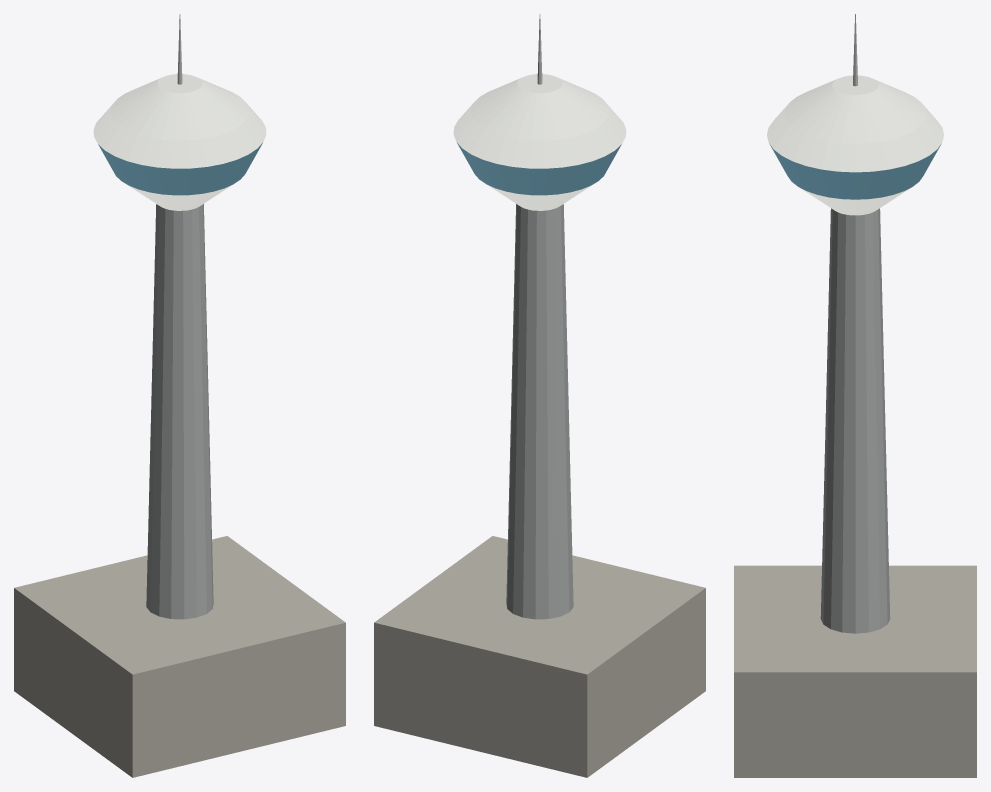
File: source.glb
The picture shows the model from 3 angles, left to right: view 1: azimuth 30°, elevation 25°; view 2: azimuth 150°, elevation 25°; view 3: azimuth 270°, elevation 25°; orthographic projection. The views are drawn at different scales.
Parts seen in each view (by area): view 1: worldgen; view 2: worldgen; view 3: worldgen.
Part boxes in pixels (bbox=[...]): worldgen: bbox=[14, 14, 345, 777]; worldgen: bbox=[374, 14, 705, 777]; worldgen: bbox=[734, 14, 976, 777].
Size of the model in its own units: 54 by 168 by 52.
